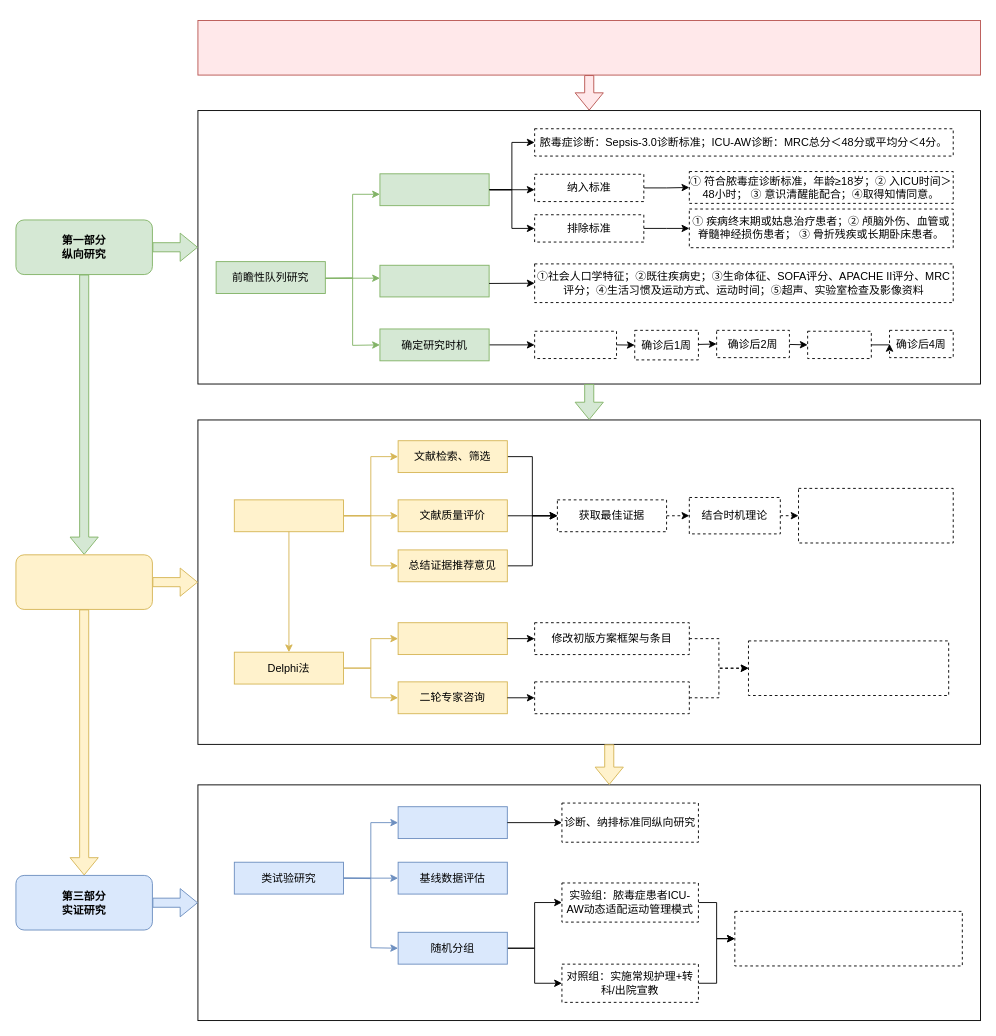
Some shapes in this 996 by 1036 pixel diagram are drawn without their labels. Each missing label, with the centre of its shape:
效果评价：两组患者ICU-AW发生率、MRC肌力评分、BI评分、机械通气时间、住ICU时间、患者/家属满意度: (x=848, y=938)
文献循证: (x=288, y=515)
构建《脓毒症患者ICU-AW动态适配运动管理模式》初稿: (x=875, y=515)
根据首轮结果完善方案: (x=611, y=697)
确定《脓毒症患者ICU-AW动态适配运动管理模式》终稿: (x=848, y=668)
确定研究对象: (x=452, y=822)
确诊后3周: (x=839, y=344)
第二部分 方案构建: (x=83, y=581)
脓毒症患者 ICU 获得性衰弱发展轨迹与动态适配运动管理模式 研究: (x=589, y=47)
脓毒症确诊当天: (x=575, y=344)
获取临床资料: (x=434, y=280)
选择研究对象: (x=434, y=189)
首轮专家咨询: (x=452, y=638)
